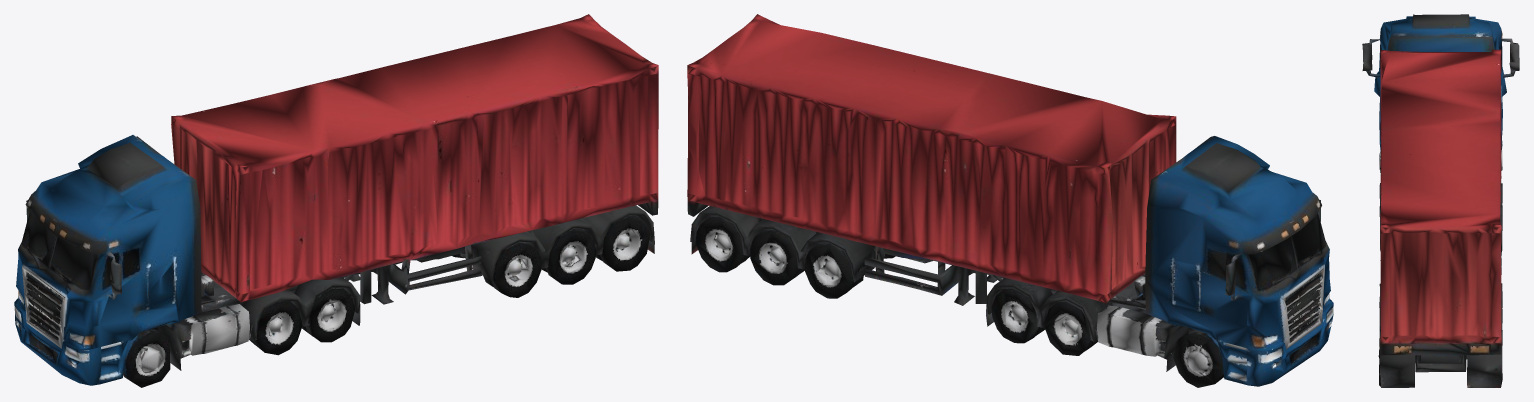
The model's file is camion_contenedor.glb.
The picture shows the model from 3 angles, left to right: view 1: azimuth 30°, elevation 25°; view 2: azimuth 150°, elevation 25°; view 3: azimuth 270°, elevation 25°; orthographic projection. The views are drawn at different scales.
Size of the model in its own units: 10.49 by 3.46 by 2.83.
Materials: 1 (1 with a texture image).
